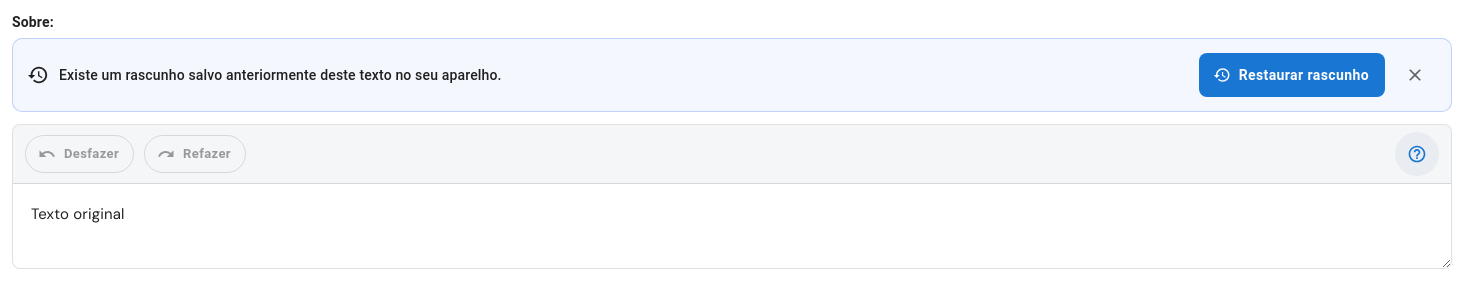
Scenario: RichTextEditor component › shows draft recovery notice when an existing draft is found in localStorage and allows restoring or dismissing
The image size is (1464, 286).
Expected: the text "Existe um rascunho salvo anteriormente deste texto no seu aparelho" is shown, x1=59 y1=66 x2=502 y2=82
Test restoring draft
Click the button "Restaurar rascunho" at (1292, 75), box x1=1199 y1=53 x2=1385 y2=97
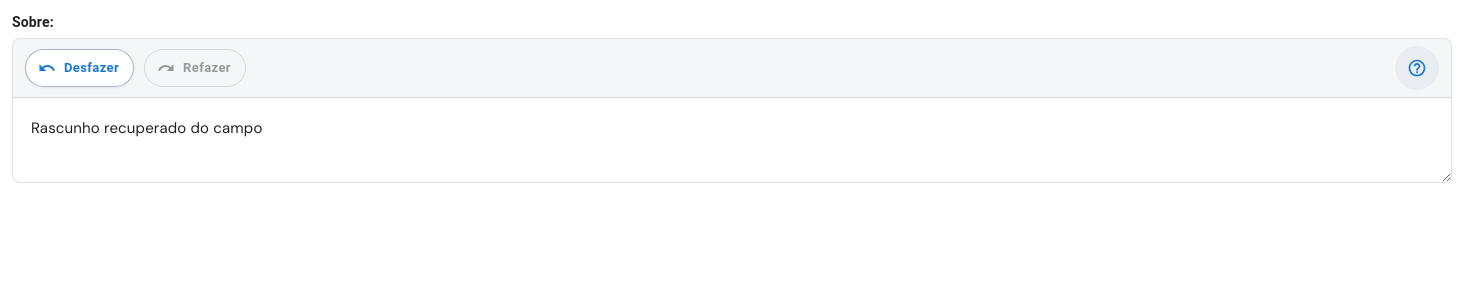
Result: the text "Existe um rascunho salvo anteriormente deste texto no seu aparelho" is gone
